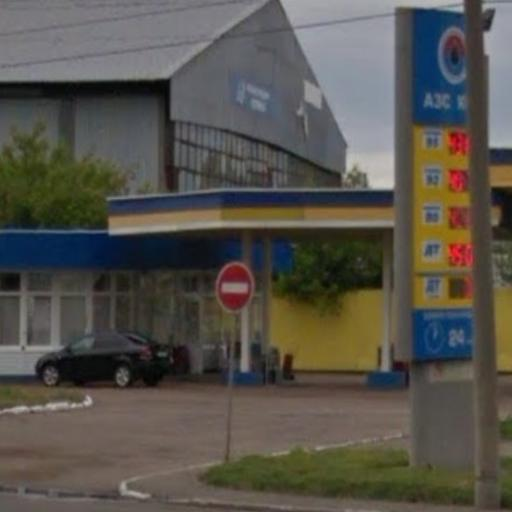traffic_sign: (213, 257, 259, 316)
